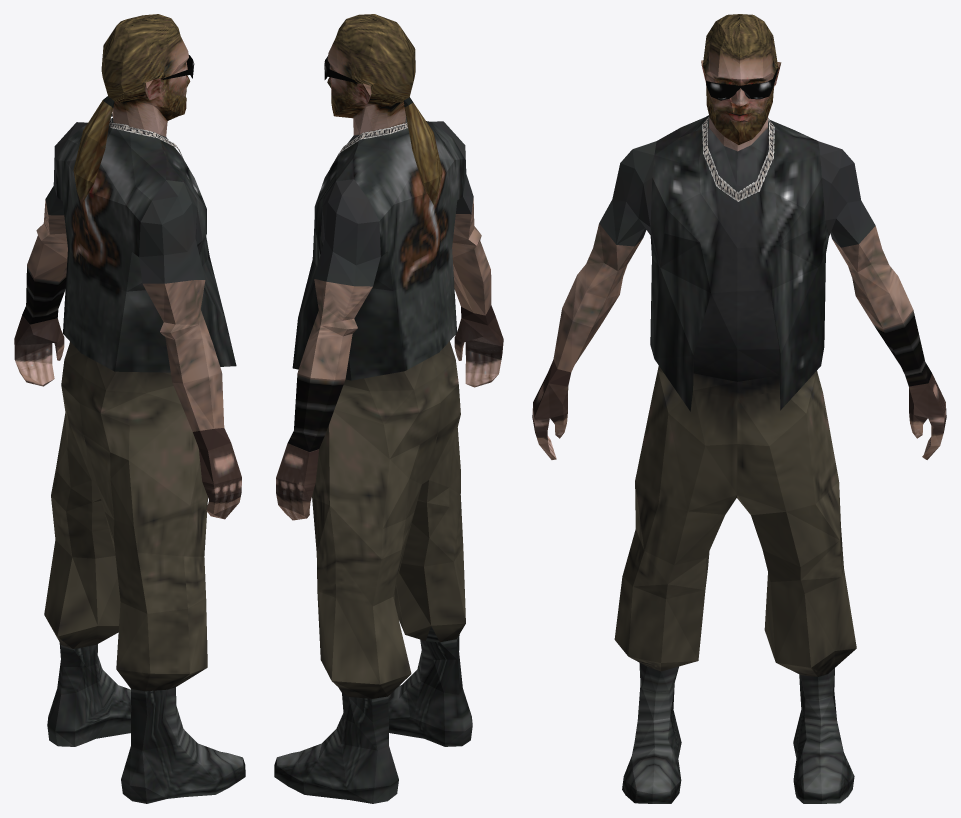
File: wmycr.obj
3 views of the same model, side by side, from view 1: azimuth 30°, elevation 25°; view 2: azimuth 150°, elevation 25°; view 3: azimuth 270°, elevation 25° (orthographic). The views are drawn at different scales.
Visible parts, largest first — view 1: _Pelvis; view 2: _Pelvis; view 3: _Pelvis.
Part boxes in pixels (x1,y1,x2,y2): _Pelvis: (14,14,245,803); _Pelvis: (274,14,503,803); _Pelvis: (532,14,946,803).
Bounding box in the file's own units: 0.3636 × 1.89 × 0.9308.
2 materials, 2 textured.
